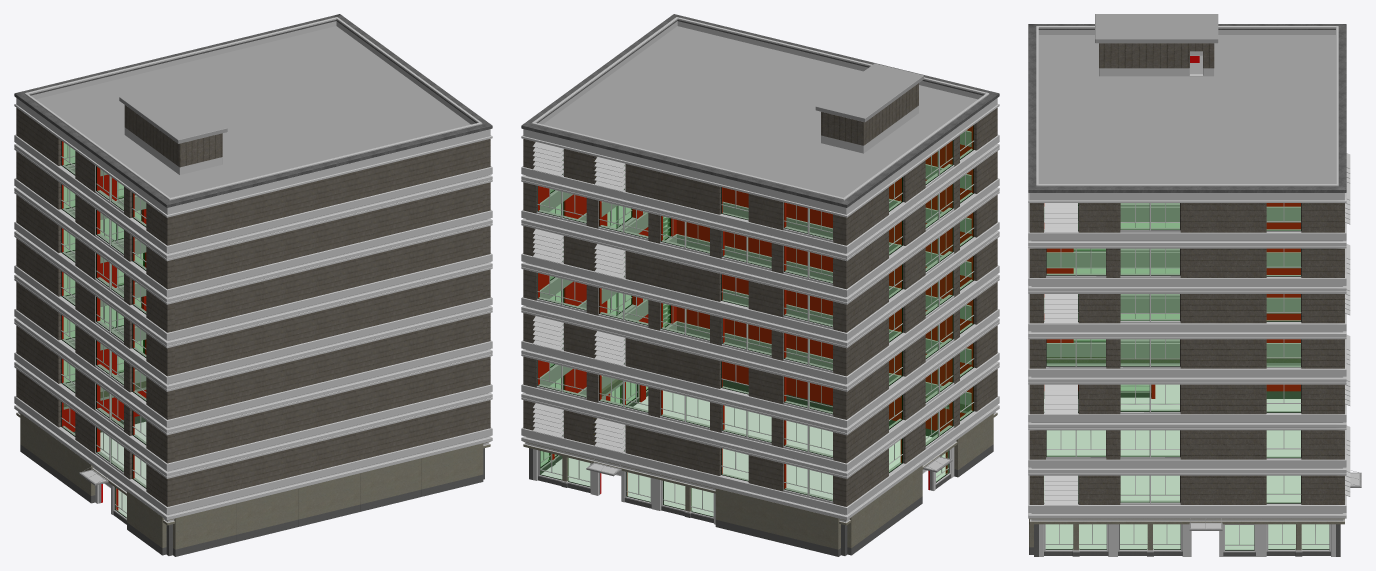
Rendered from SM_Building22_V2.fbx.
3 views of the same model, side by side, from view 1: azimuth 30°, elevation 25°; view 2: azimuth 150°, elevation 25°; view 3: azimuth 270°, elevation 25° (orthographic). The views are drawn at different scales.
Parts seen in each view (by area): view 1: SM_Building22_V2; view 2: SM_Building22_V2; view 3: SM_Building22_V2.
Part boxes in pixels (x1=…): SM_Building22_V2: x1=14, y1=14, x2=492, y2=556; SM_Building22_V2: x1=521, y1=14, x2=999, y2=556; SM_Building22_V2: x1=1028, y1=14, x2=1361, y2=556.
Size of the model in its own units: 3416 by 3584 by 2694.
